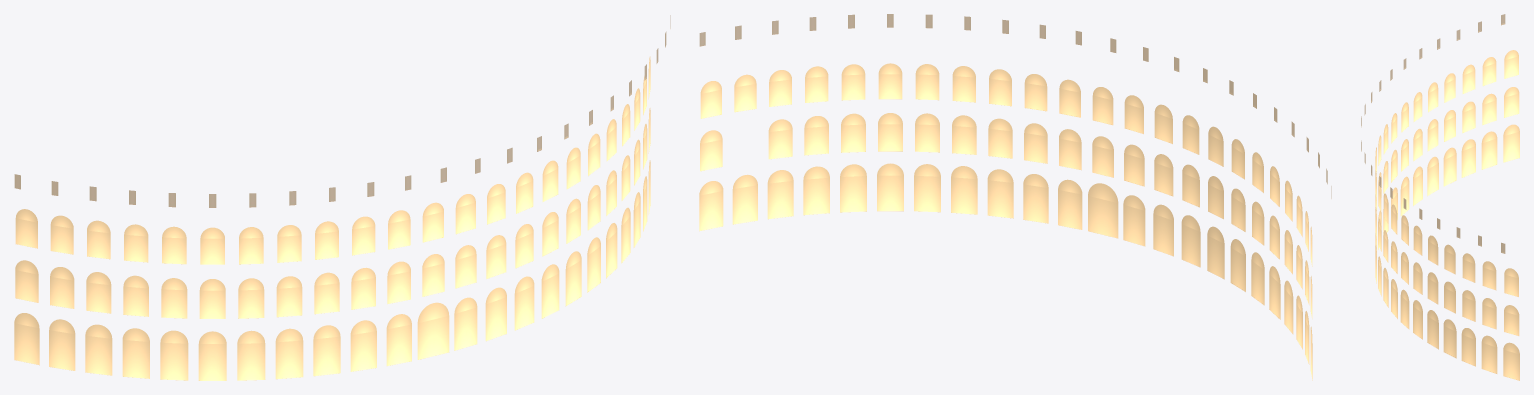
File: SM_colo_inner.glb
3 views of the same model, side by side, from view 1: azimuth 30°, elevation 25°; view 2: azimuth 150°, elevation 25°; view 3: azimuth 270°, elevation 25° (orthographic). The views are drawn at different scales.
Visible parts, largest first — view 1: SM_colo_inner; view 2: SM_colo_inner; view 3: SM_colo_inner.
Boxes of the visible parts, x1=… form: SM_colo_inner: x1=14, y1=15, x2=670, y2=380; SM_colo_inner: x1=699, y1=14, x2=1331, y2=380; SM_colo_inner: x1=1361, y1=14, x2=1519, y2=380.
Size of the model in its own units: 116 by 33.2 by 34.22.
1 material, 1 textured.
